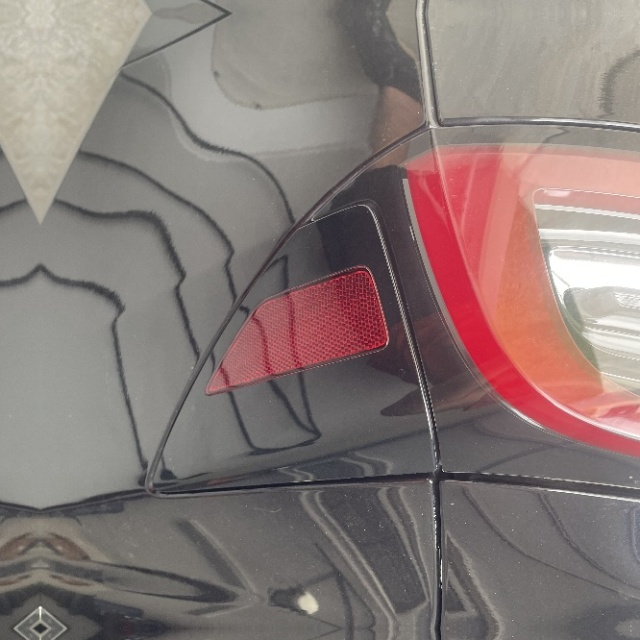reflector: (203, 266, 389, 395)
